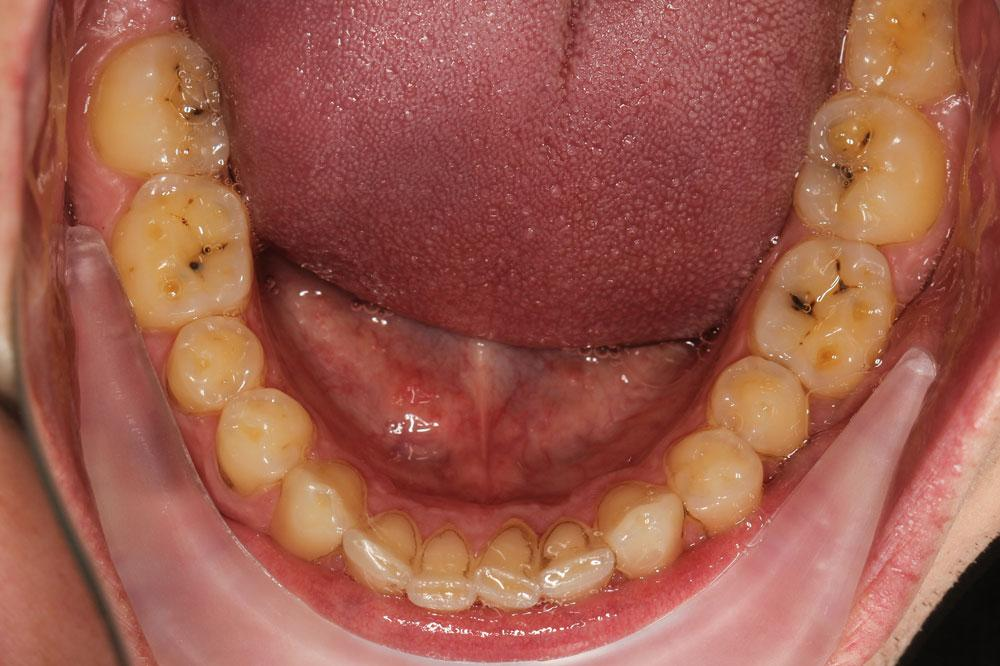LL1BC_healthy: (664, 426, 764, 534)
LL1M_decay: (753, 237, 899, 401)
LL2BC_healthy: (703, 355, 813, 459)
LL2M_decay: (791, 93, 949, 245)
LL3M_healthy: (844, 1, 970, 110)
LLCI_decay: (471, 515, 541, 617)
LLC_healthy: (595, 482, 687, 577)
LLLI_decay: (538, 519, 615, 611)
LR1BC_healthy: (209, 387, 318, 493)
LR1M_decay: (107, 178, 253, 335)
LR2BC_healthy: (166, 317, 266, 417)
LR2M_decay: (92, 38, 232, 180)
LRCI_decay: (410, 527, 474, 615)
LRC_healthy: (270, 465, 371, 562)
LRLI_decay: (341, 516, 416, 590)
